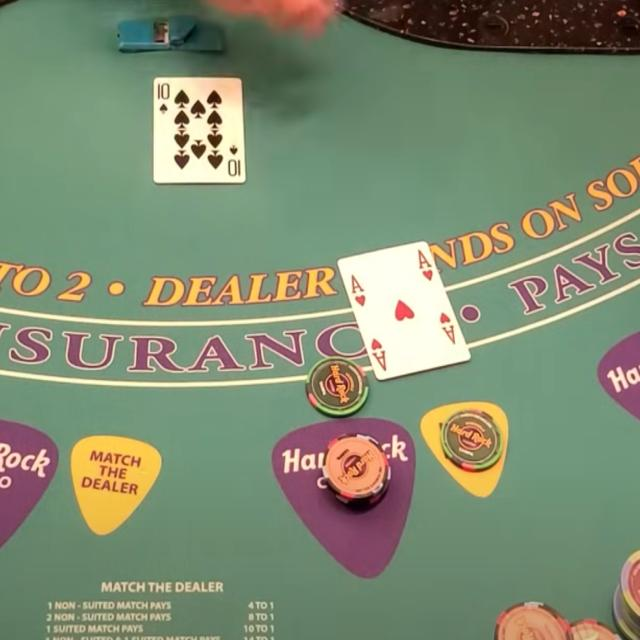10: (154, 82, 172, 101)
A: (345, 270, 368, 296)
